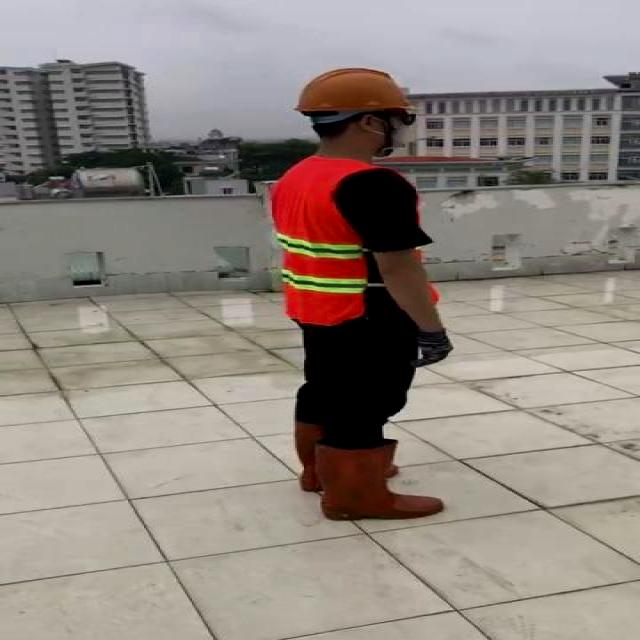boots: (315, 440, 448, 520), (279, 413, 411, 492)
face_mask: (367, 104, 426, 154)
hand_glove: (411, 330, 458, 369)
head_helmet: (284, 65, 416, 115)
person: (257, 62, 458, 528)
vest: (268, 155, 438, 325)
